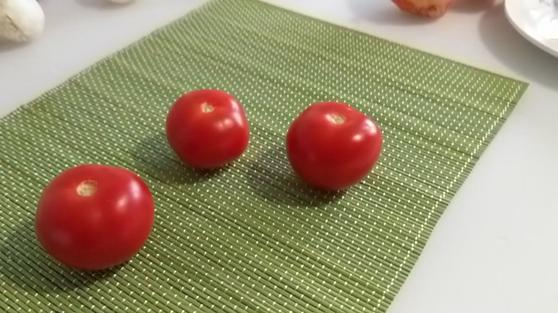tomato: (34, 164, 151, 270), (289, 101, 382, 189), (167, 89, 247, 165)
